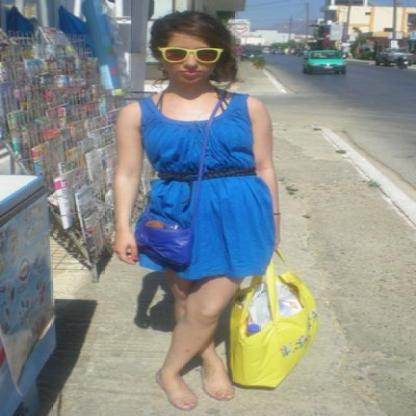bag: (134, 217, 316, 386)
dress: (136, 94, 275, 278)
shoe: (204, 379, 234, 400)
sunglass: (152, 44, 186, 66)
